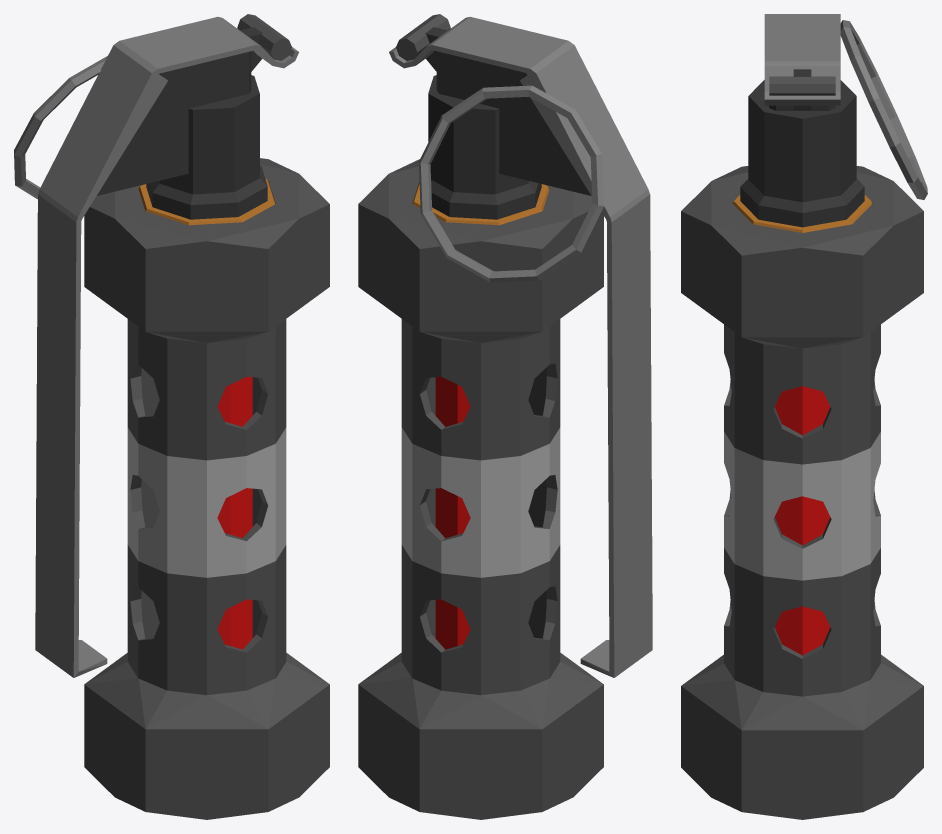
The model's file is lp-grenade-stun.glb.
3 renders of one model, left to right at view 1: azimuth 30°, elevation 25°; view 2: azimuth 150°, elevation 25°; view 3: azimuth 270°, elevation 25°, orthographic.
Visible parts, largest first — view 1: body, spoon, pin; view 2: body, spoon, pin; view 3: body, spoon, pin.
Boxes of the visible parts, x1,y1,x2,y2 form: body: (84,14,329,819); spoon: (35,16,298,677); pin: (14,56,107,199); body: (358,14,603,819); spoon: (389,16,652,677); pin: (418,85,603,282); body: (681,69,923,819); spoon: (764,14,840,105); pin: (840,20,927,199).
Size of the model in its own units: 0.0627 by 0.1764 by 0.0542.
Materials: 1 (1 with a texture image).
